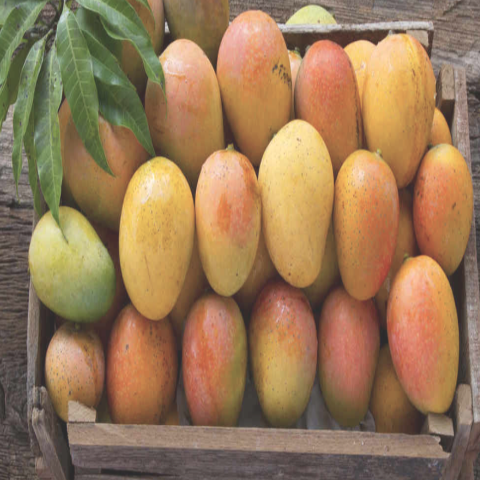mango: (252, 110, 342, 303), (353, 33, 449, 209), (114, 145, 198, 326), (381, 240, 464, 415), (329, 144, 414, 302), (207, 14, 295, 166), (182, 272, 253, 455), (19, 205, 111, 335), (187, 136, 262, 289), (309, 271, 380, 419), (409, 141, 475, 289)
